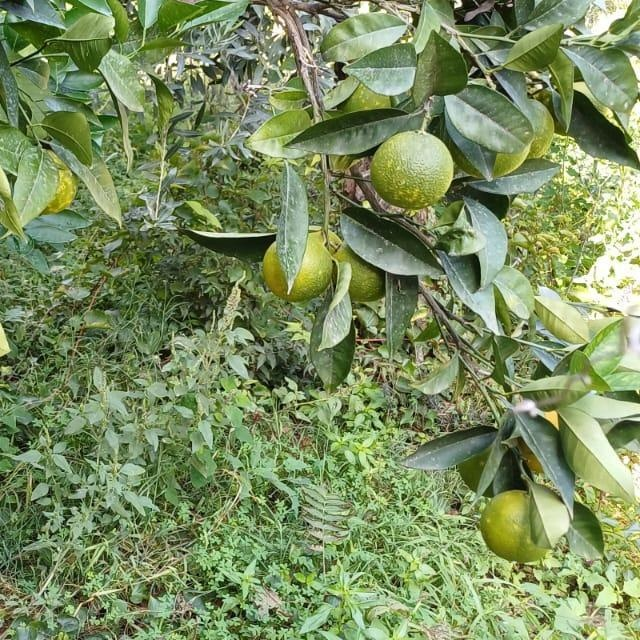orange: (366, 128, 458, 216), (260, 228, 334, 306), (483, 487, 553, 557), (25, 150, 77, 216), (334, 78, 398, 118), (525, 413, 565, 469), (340, 249, 382, 301), (470, 139, 526, 177), (525, 99, 555, 159), (456, 444, 500, 484)
